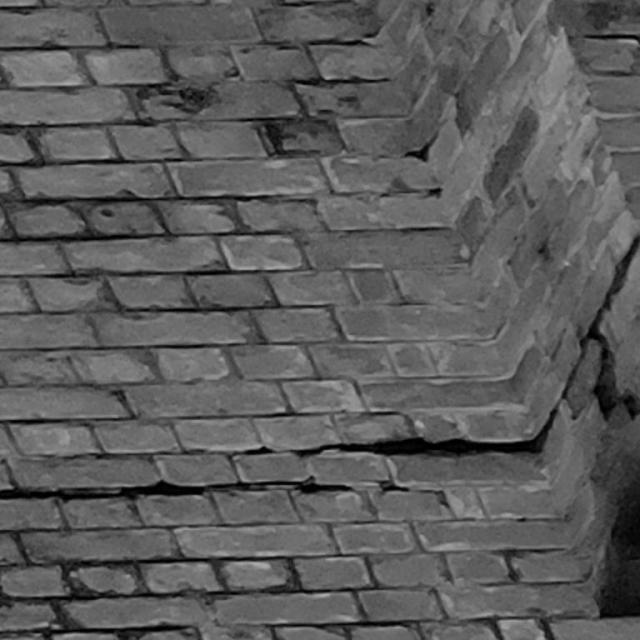crack: (231, 234, 640, 456), (1, 476, 409, 501)
